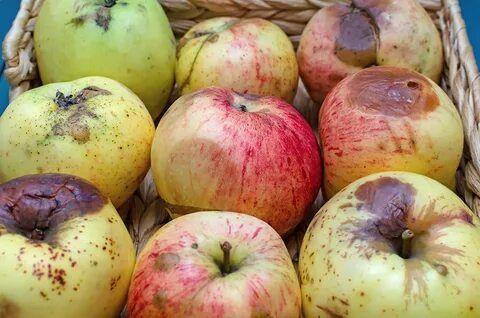Apple: (299, 174, 477, 316), (149, 88, 320, 231), (3, 171, 129, 318), (321, 66, 463, 181)
